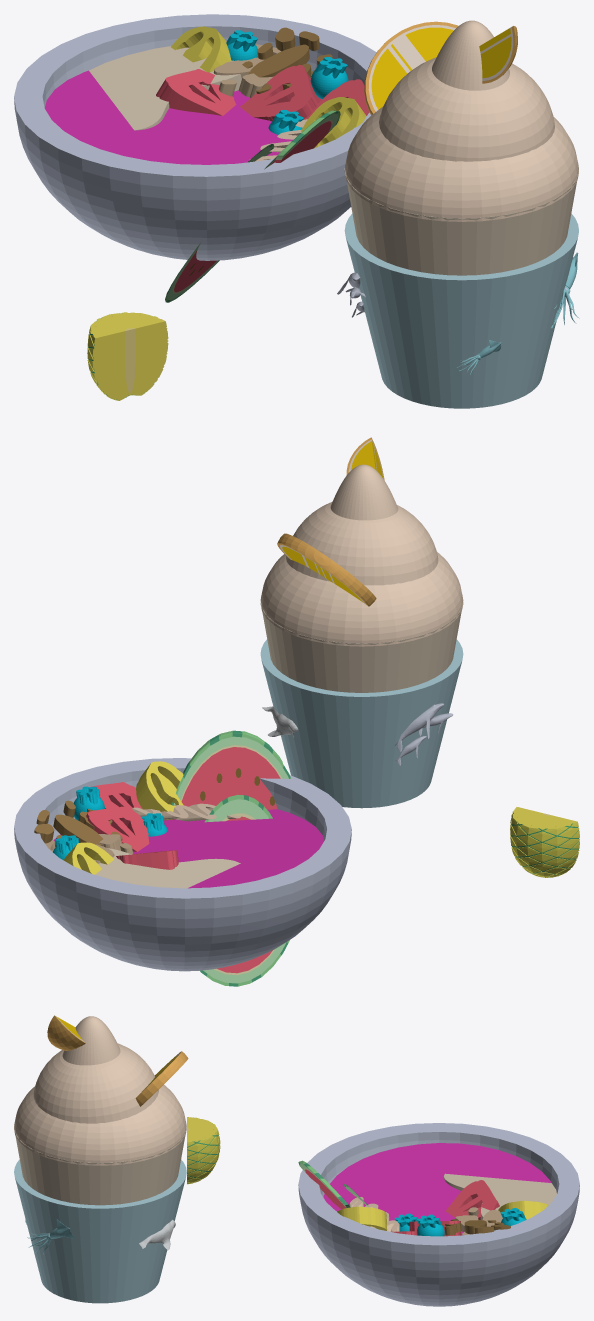
File: Alyson.glb
The picture shows the model from 3 angles, top to bottom: view 1: azimuth 30°, elevation 25°; view 2: azimuth 150°, elevation 25°; view 3: azimuth 270°, elevation 25°; orthographic projection. The views are drawn at different scales.
Parts seen in each view (by area): view 1: Mesh_Mesh_head_geo.001_lambert2SG.001; view 2: Mesh_Mesh_head_geo.001_lambert2SG.001; view 3: Mesh_Mesh_head_geo.001_lambert2SG.001.
Part boxes in pixels (x1,y1,x2,y2): Mesh_Mesh_head_geo.001_lambert2SG.001: [14, 14, 579, 408]; Mesh_Mesh_head_geo.001_lambert2SG.001: [14, 437, 579, 986]; Mesh_Mesh_head_geo.001_lambert2SG.001: [14, 1015, 579, 1306].
Size of the model in its own units: 0.0699 by 0.063 by 0.1015.
